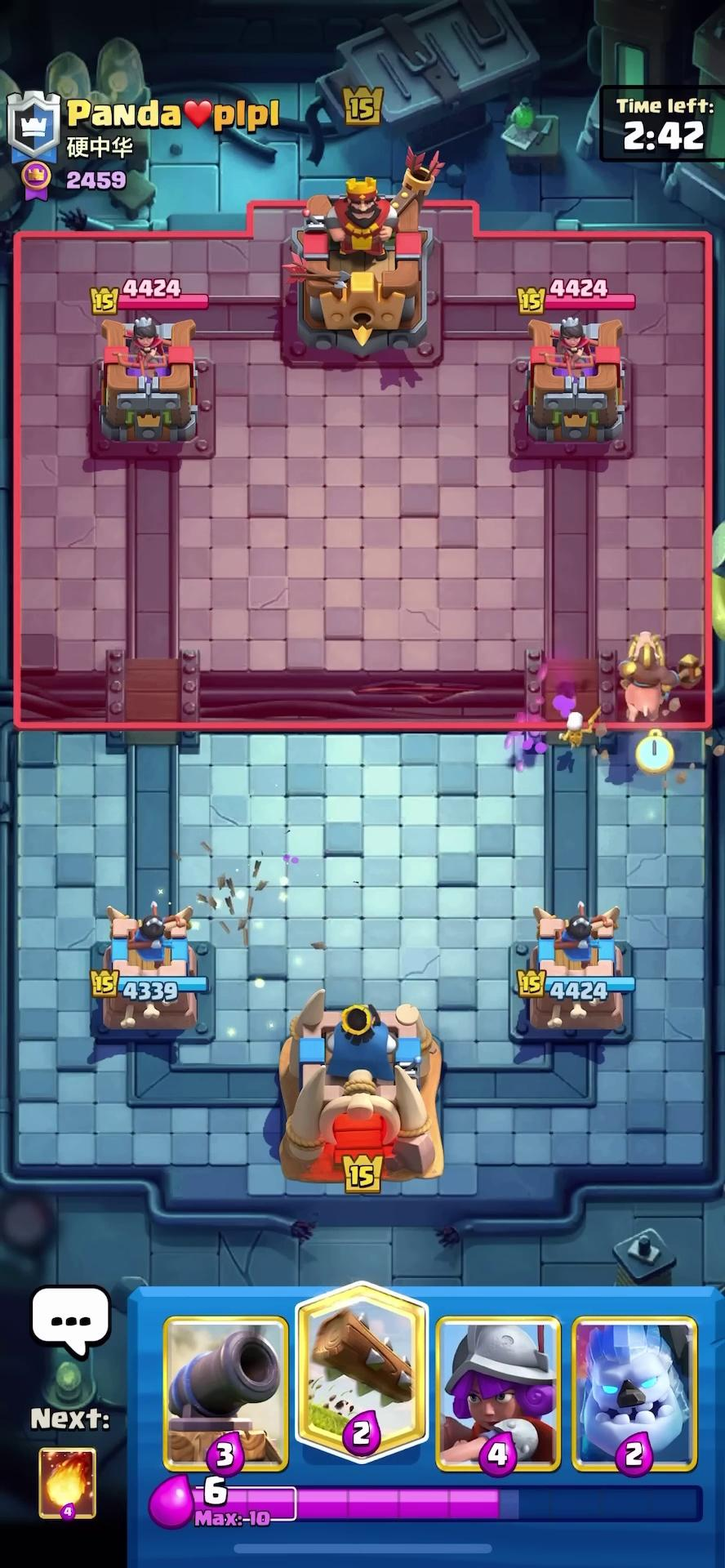hog_rider: (602, 625, 696, 731)
skeletons: (543, 690, 608, 755)
